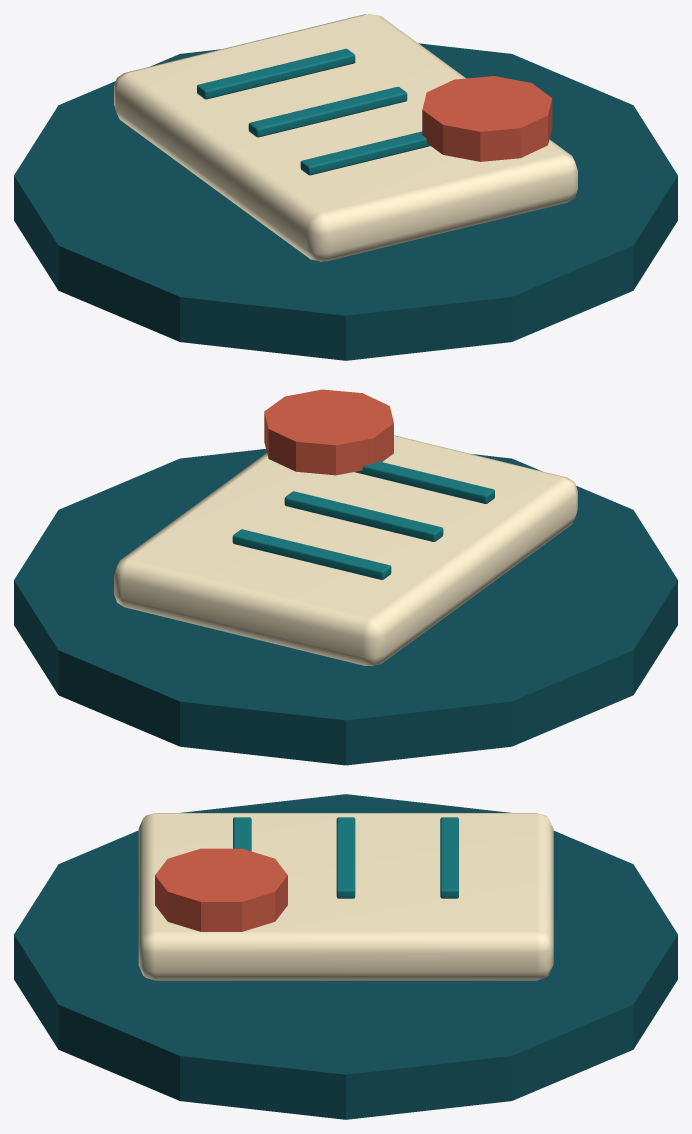
The model's file is Icon_Permit.fbx.
The picture shows the model from 3 angles, top to bottom: view 1: azimuth 30°, elevation 25°; view 2: azimuth 150°, elevation 25°; view 3: azimuth 270°, elevation 25°; orthographic projection.
Visible parts, largest first — view 1: Icon_Permit_Static; view 2: Icon_Permit_Static; view 3: Icon_Permit_Static.
Part boxes in pixels (bbox=[...]): Icon_Permit_Static: bbox=[14, 14, 677, 360]; Icon_Permit_Static: bbox=[14, 389, 677, 765]; Icon_Permit_Static: bbox=[14, 794, 677, 1119].
Size of the model in its own units: 1.6 by 0.38 by 1.6.
1 material, 1 textured.
